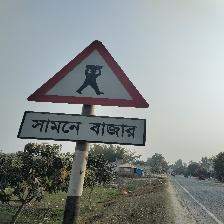Market-in-front: (21, 40, 150, 146)
